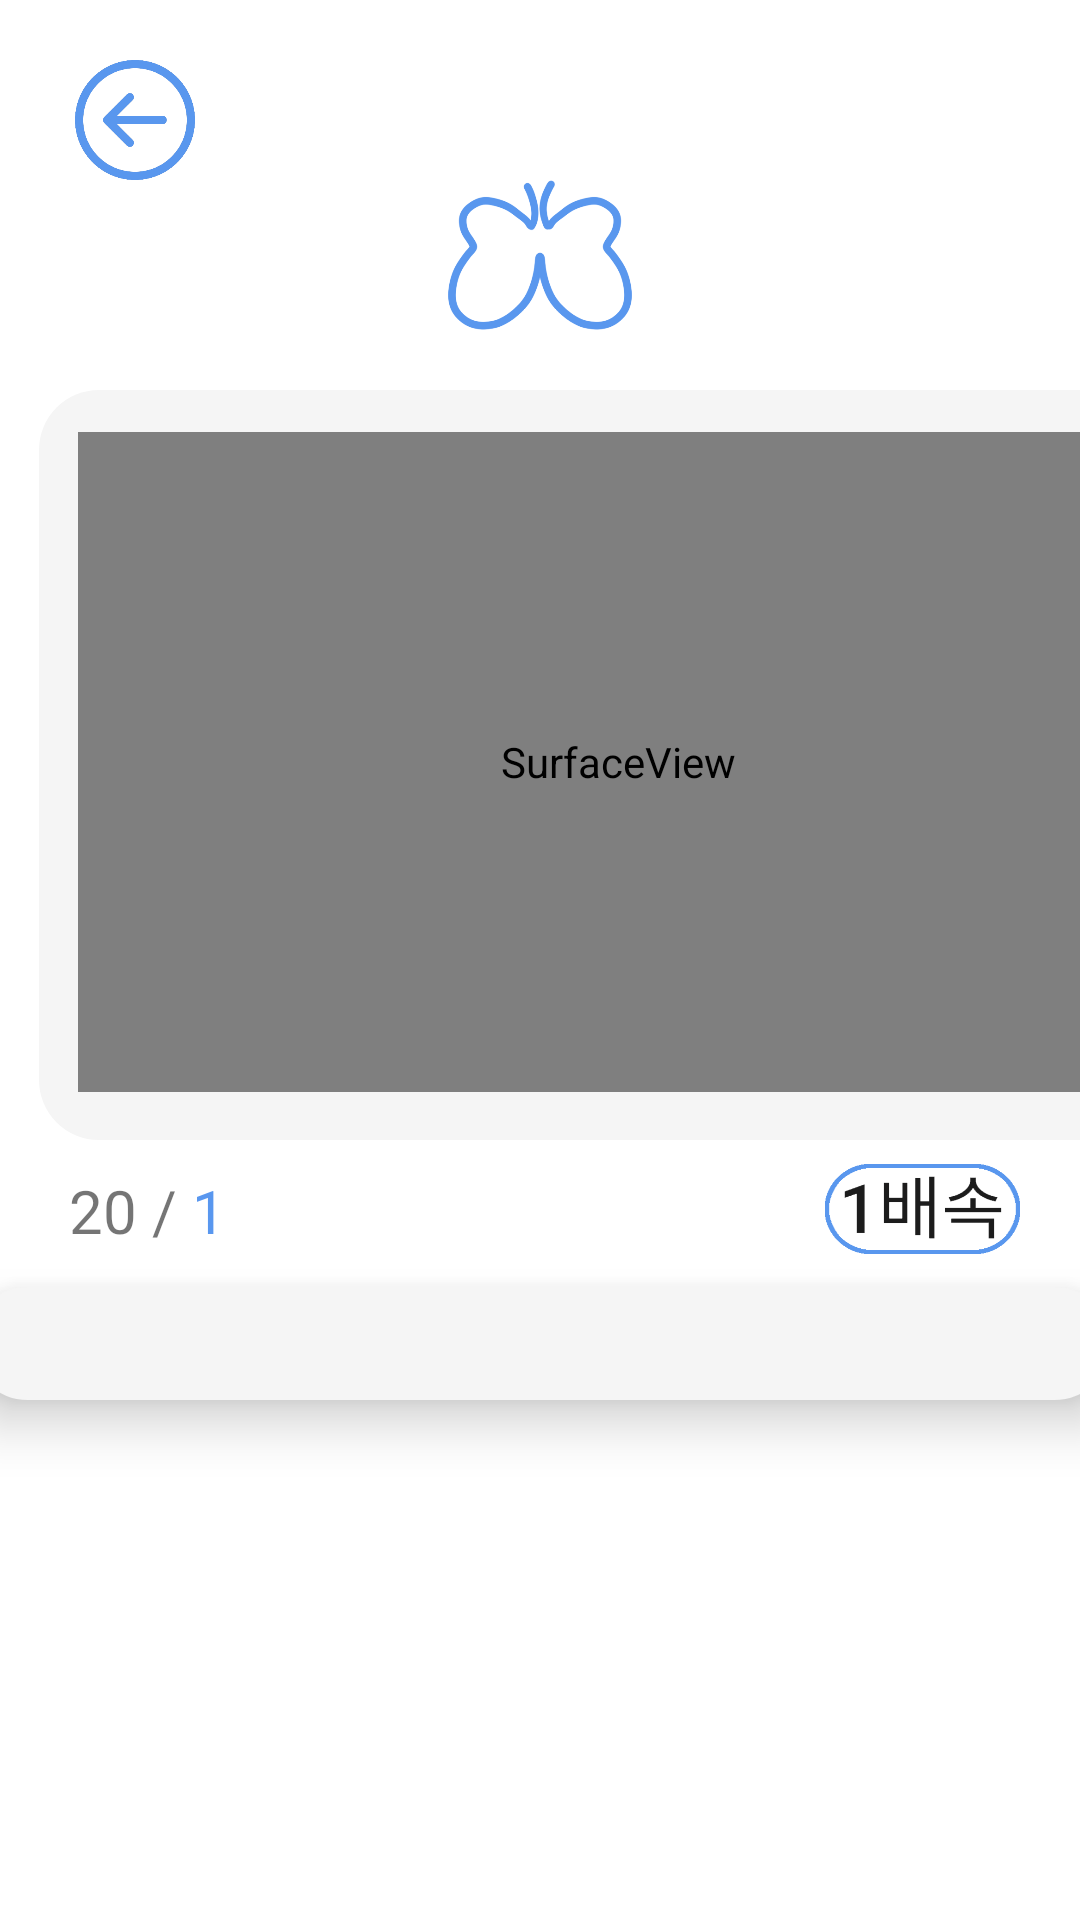

Icons on this 1080x1920 Android screen, each with the point to tap as (x,y):
back: (135,120)
